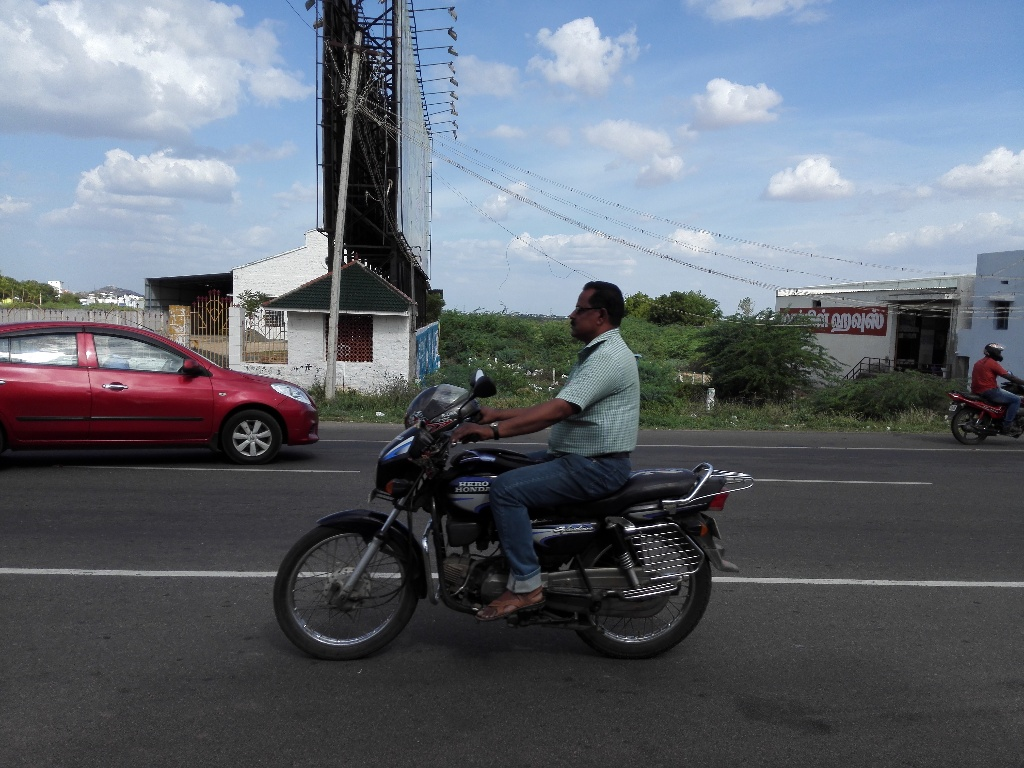biker: (247, 245, 773, 688), (933, 298, 1024, 462)
helmet: (977, 335, 1011, 373)
nohelmet: (558, 271, 637, 353)
